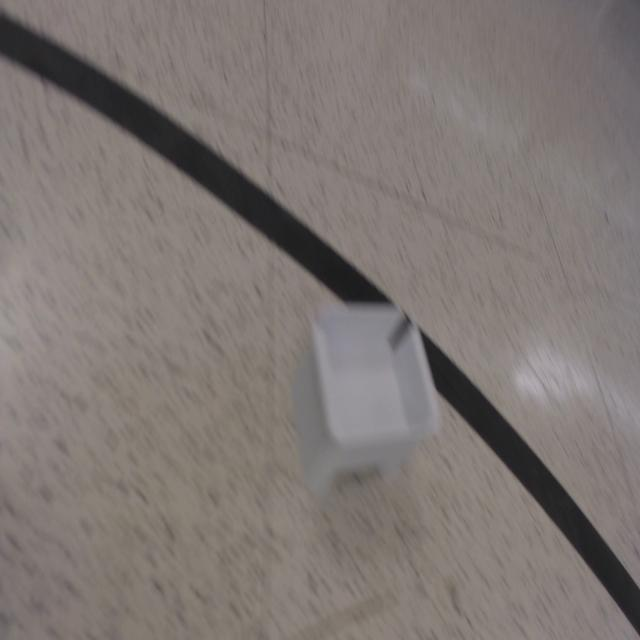wbox: (290, 295, 442, 501)
